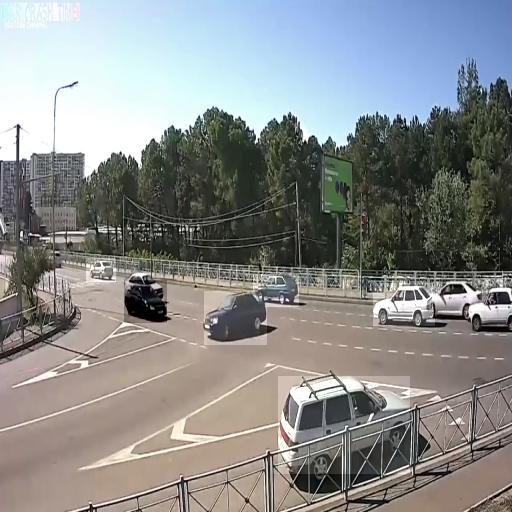小汽车: (278, 376, 410, 474), (204, 291, 267, 345), (373, 283, 435, 326), (124, 280, 167, 323), (433, 276, 477, 318), (470, 289, 512, 331), (254, 274, 300, 307), (86, 258, 116, 282)
